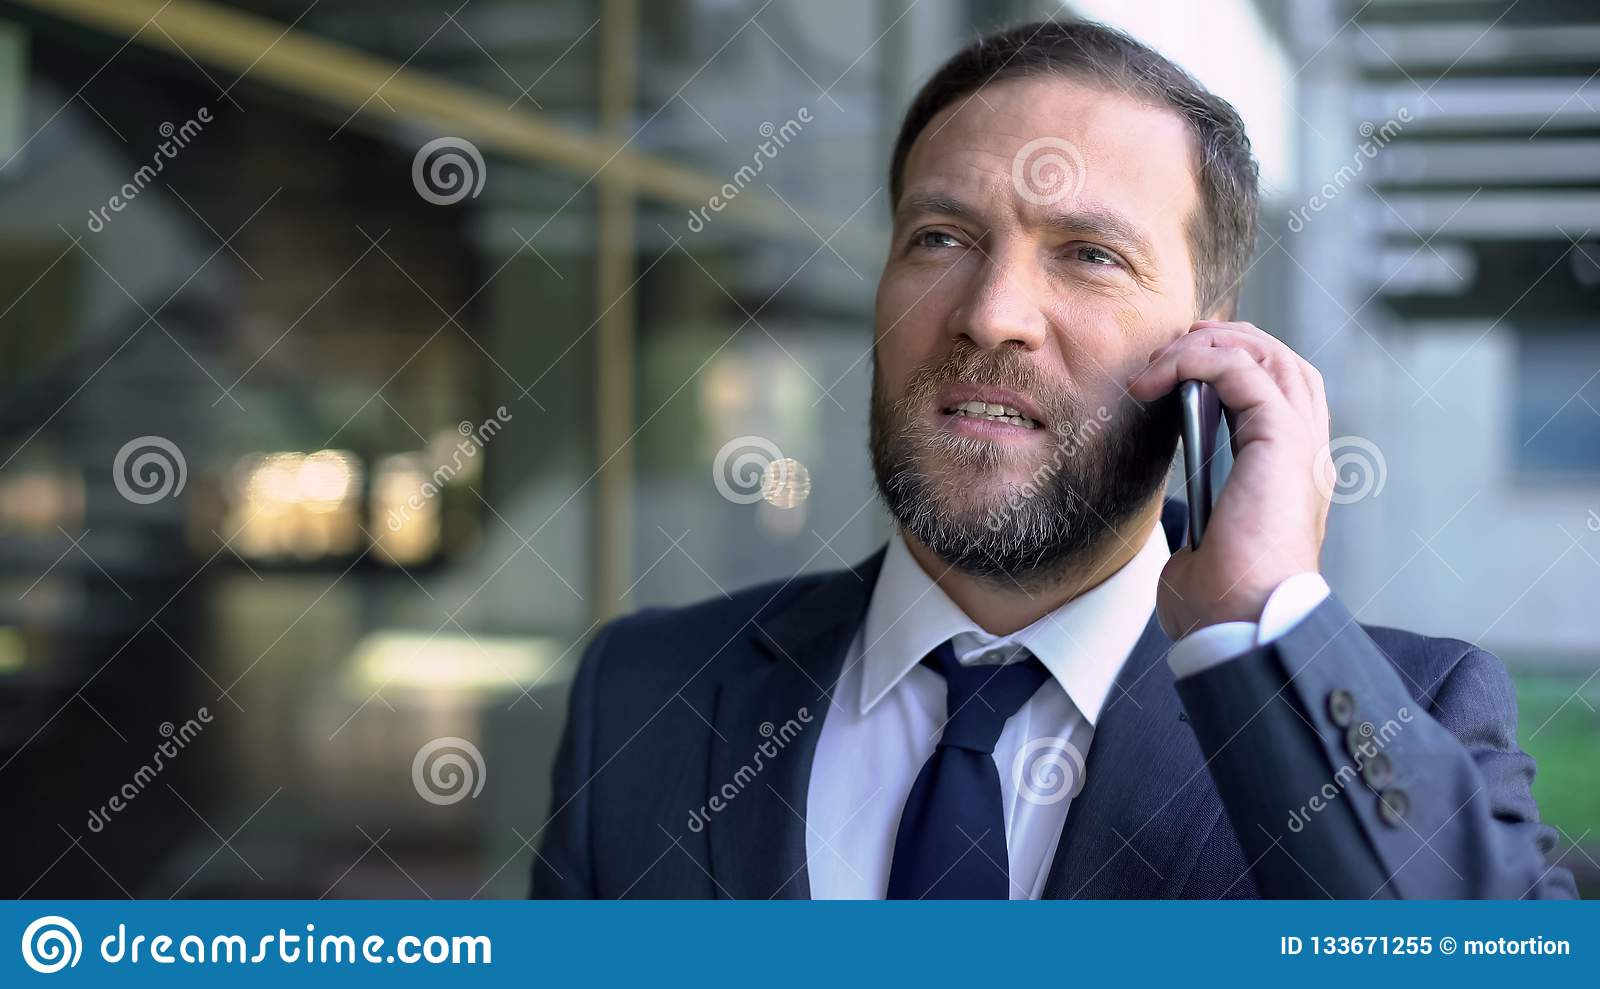phone: (1175, 300, 1243, 571)
talk: (877, 190, 1355, 663)
